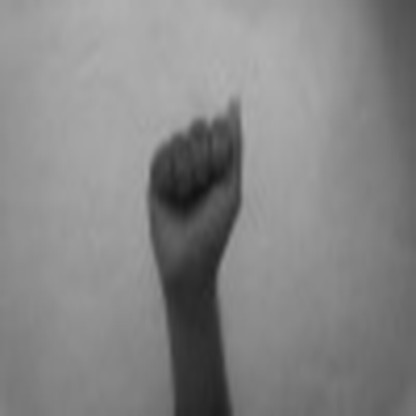a: (138, 85, 252, 293)
